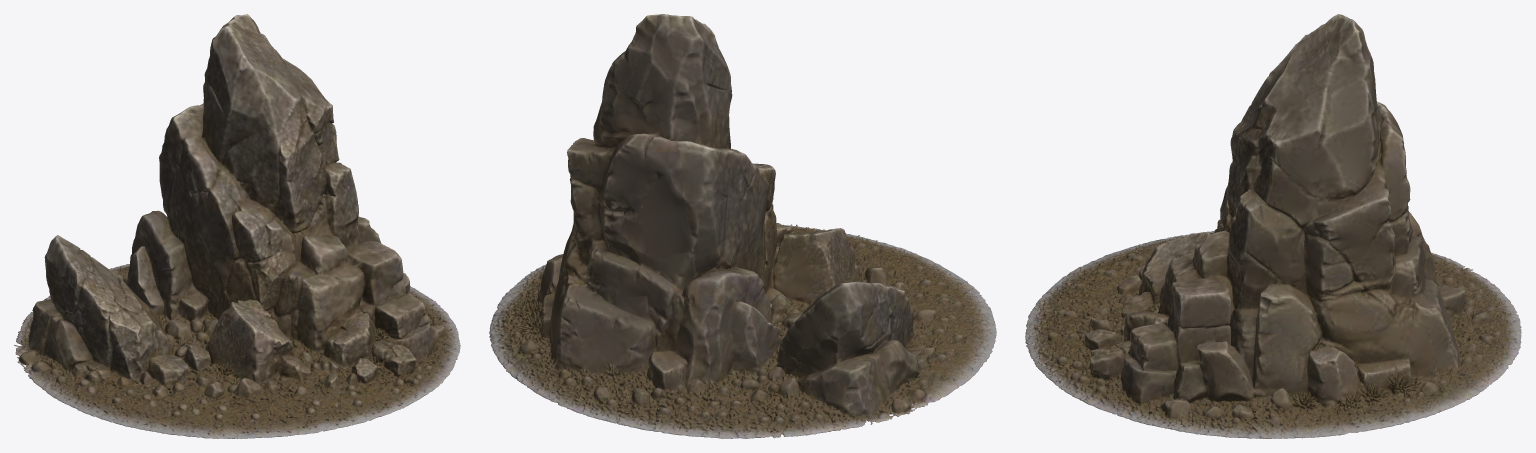
The model's file is Meshy_AI_small_rock_c_0823024845_image-to-3d-texture.glb.
The picture shows the model from 3 angles, left to right: view 1: azimuth 30°, elevation 25°; view 2: azimuth 150°, elevation 25°; view 3: azimuth 270°, elevation 25°; orthographic projection. The views are drawn at different scales.
Visible parts, largest first — view 1: mesh_node; view 2: mesh_node; view 3: mesh_node.
Boxes of the visible parts, x1,y1,x2,y2 form: mesh_node: (14,14,460,438); mesh_node: (489,14,996,438); mesh_node: (1025,14,1521,438).
Bounding box in the file's own units: 1.9 × 1.4 × 1.89.
1 material, 1 textured.
